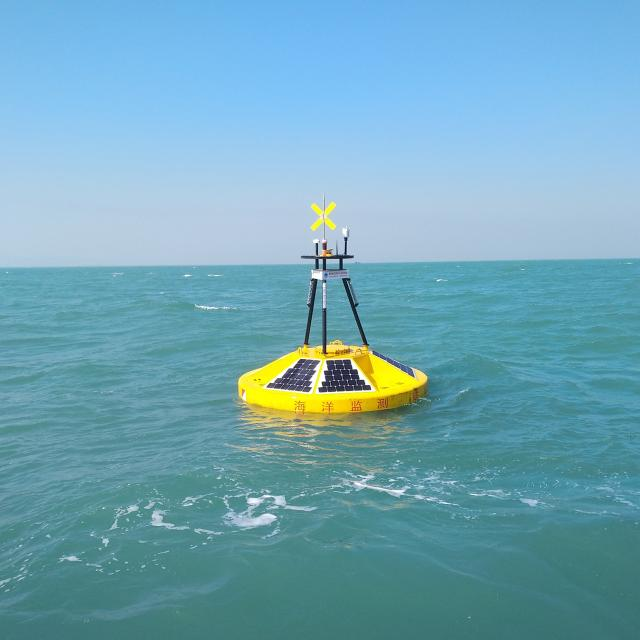buoy: (230, 192, 427, 414)
